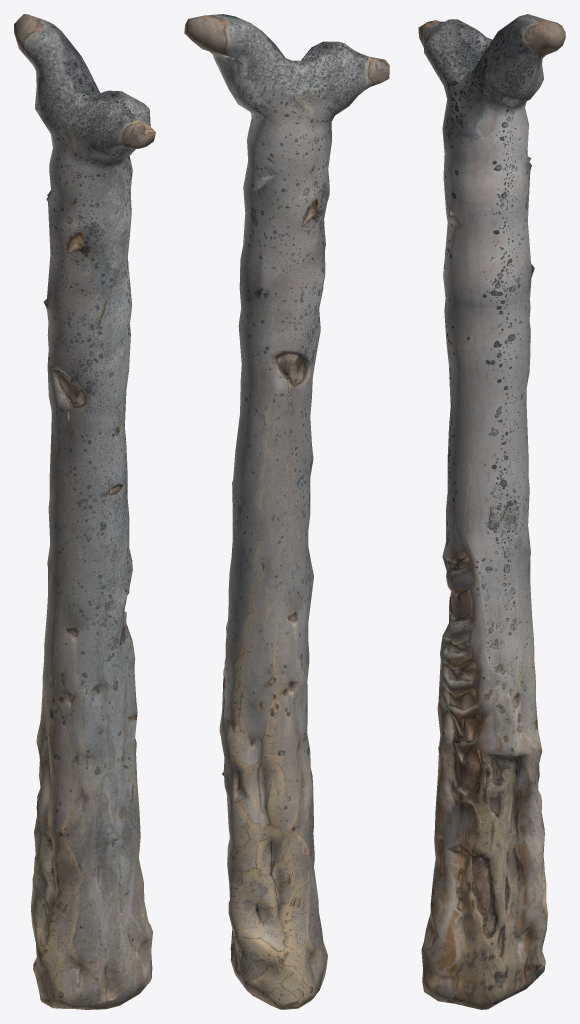
The model's file is dead_quiver_trunk.glb.
3 views of the same model, side by side, from view 1: azimuth 90°, elevation 25°; view 2: azimuth 150°, elevation 25°; view 3: azimuth 270°, elevation 25° (orthographic). The views are drawn at different scales.
Visible parts, largest first — view 1: dead_quiver_trunk_LOD0; view 2: dead_quiver_trunk_LOD0; view 3: dead_quiver_trunk_LOD0.
Part boxes in pixels (x1=…): dead_quiver_trunk_LOD0: x1=14, y1=14, x2=155, y2=1009; dead_quiver_trunk_LOD0: x1=184, y1=14, x2=389, y2=1009; dead_quiver_trunk_LOD0: x1=418, y1=14, x2=565, y2=1009.
Bounding box in the file's own units: 0.3071 × 1.99 × 0.2667.
Materials: 1 (1 with a texture image).
